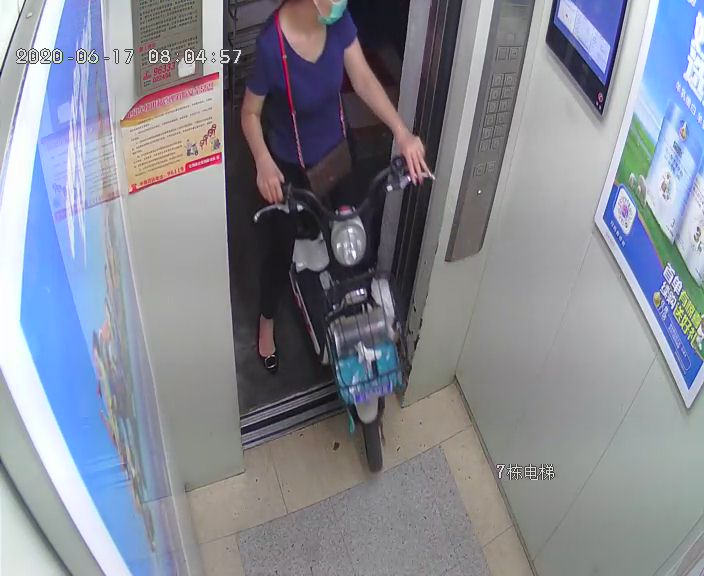Electric-bicycle: (252, 152, 438, 473)
